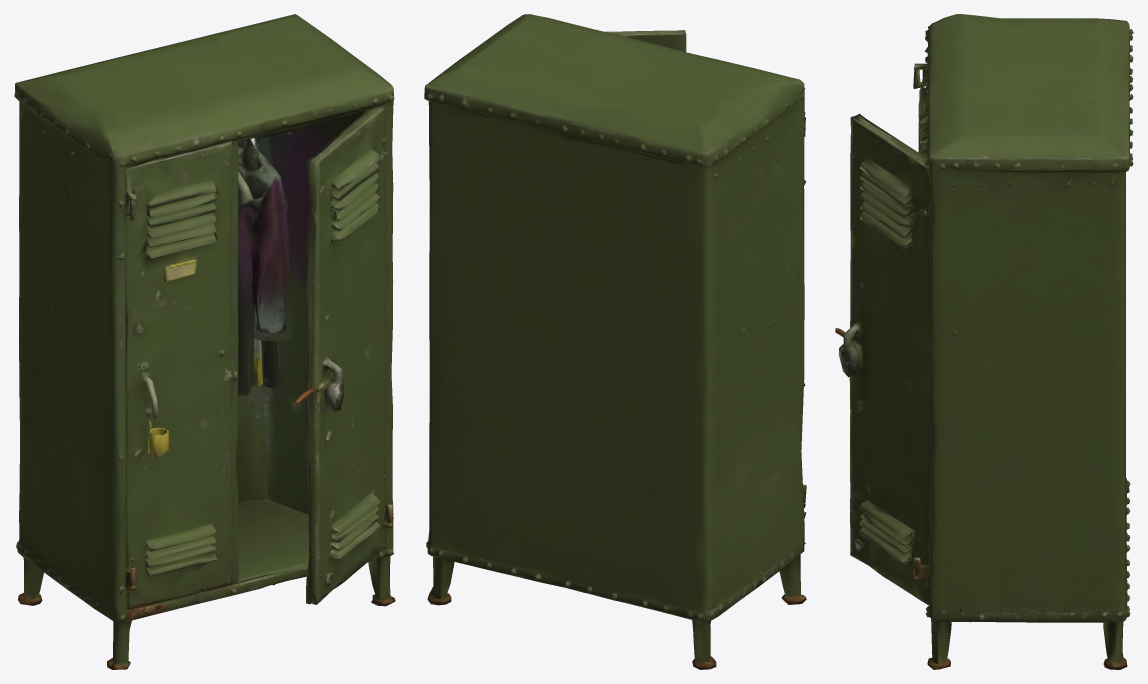
File: shuttle_crew_locker.glb
3 views of the same model, side by side, from view 1: azimuth 30°, elevation 25°; view 2: azimuth 150°, elevation 25°; view 3: azimuth 270°, elevation 25° (orthographic).
Parts seen in each view (by area): view 1: tripo_node_3b2f18bc-8882-44ac-9b03-98b432cf6d80; view 2: tripo_node_3b2f18bc-8882-44ac-9b03-98b432cf6d80; view 3: tripo_node_3b2f18bc-8882-44ac-9b03-98b432cf6d80.
Boxes of the visible parts, <box> form: tripo_node_3b2f18bc-8882-44ac-9b03-98b432cf6d80: <box>14,14,395,669</box>; tripo_node_3b2f18bc-8882-44ac-9b03-98b432cf6d80: <box>424,14,806,669</box>; tripo_node_3b2f18bc-8882-44ac-9b03-98b432cf6d80: <box>835,14,1133,669</box>.
Size of the model in its own units: 0.5655 by 0.9794 by 0.5051.
Materials: 1 (1 with a texture image).
